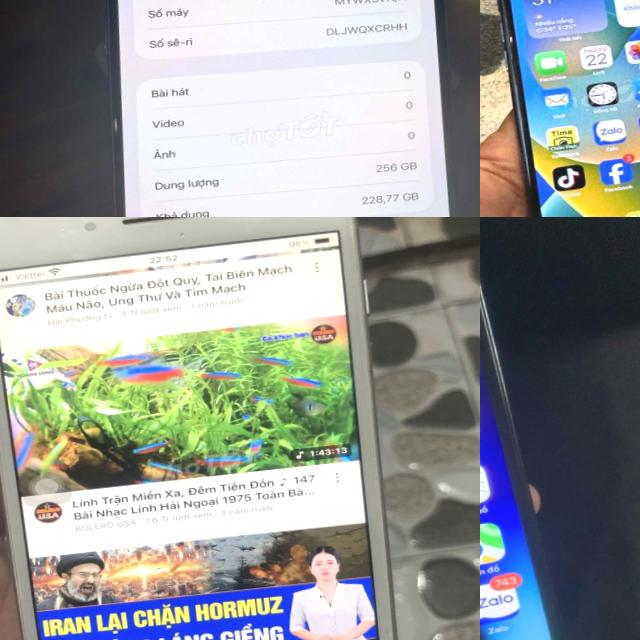gen_11: (480, 0, 640, 217)
gen_12_13: (480, 217, 604, 640)
gen_16: (107, 0, 454, 217)
gen_7_8: (0, 217, 429, 640)
